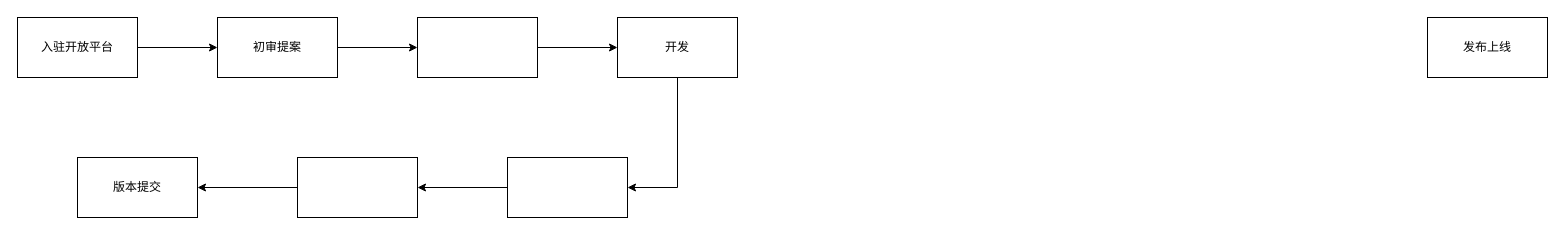
The diagram is 1565 pixels wide and 235 high, and some of its shapes have lost their labels. The shapes that lost their labels are listed below. From the top down, each one's centre as x and y in pixels, then its label:
At point (477, 47): "复审提案".
At point (357, 187): "上线评审文档提交".
At point (567, 187): "测试".
